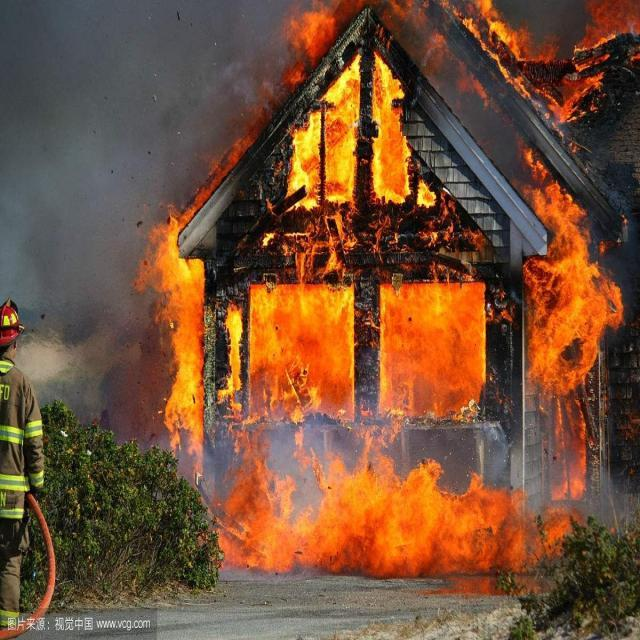Fire: (139, 1, 640, 578)
Smoke: (1, 1, 393, 521)
